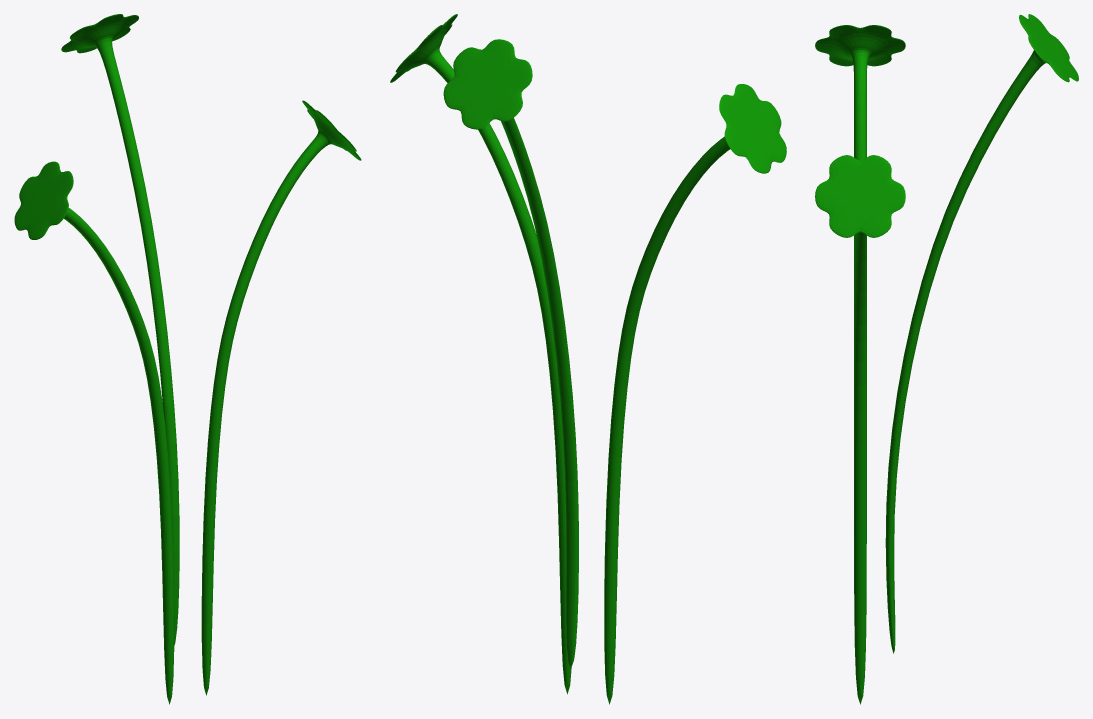
File: tallo.glb
The picture shows the model from 3 angles, left to right: view 1: azimuth 30°, elevation 25°; view 2: azimuth 150°, elevation 25°; view 3: azimuth 270°, elevation 25°; orthographic projection. The views are drawn at different scales.
Visible parts, largest first — view 1: Circle.005; view 2: Circle.005; view 3: Circle.005.
Part boxes in pixels (x1,y1,x2,y2): Circle.005: (14,14,361,704); Circle.005: (390,14,786,704); Circle.005: (815,14,1078,704).
Size of the model in its own units: 1.15 by 2.12 by 0.7475.
